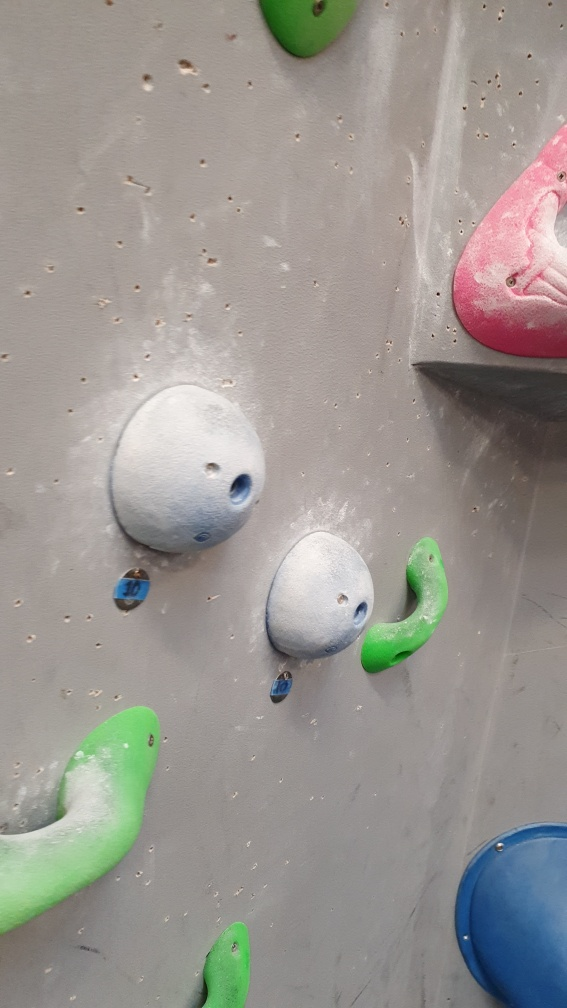Hand Start: (109, 566, 153, 620)
Pocket: (452, 116, 567, 362)
Sloper: (119, 384, 269, 564), (266, 532, 375, 664), (269, 669, 294, 706)
